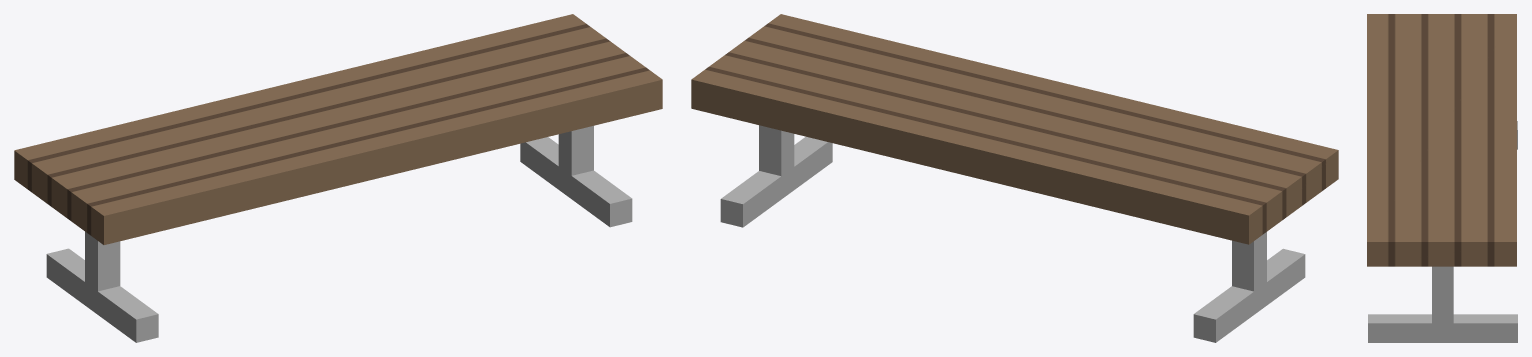
File: Props_Bench_1.glb
3 views of the same model, side by side, from view 1: azimuth 30°, elevation 25°; view 2: azimuth 150°, elevation 25°; view 3: azimuth 270°, elevation 25° (orthographic). The views are drawn at different scales.
Parts seen in each view (by area): view 1: Props_Bench_1; view 2: Props_Bench_1; view 3: Props_Bench_1.
Boxes of the visible parts, bbox=[...] form: Props_Bench_1: bbox=[14, 14, 662, 342]; Props_Bench_1: bbox=[691, 14, 1338, 342]; Props_Bench_1: bbox=[1367, 14, 1517, 342].
Size of the model in its own units: 4 by 0.9255 by 1.12.
1 material, 1 textured.
